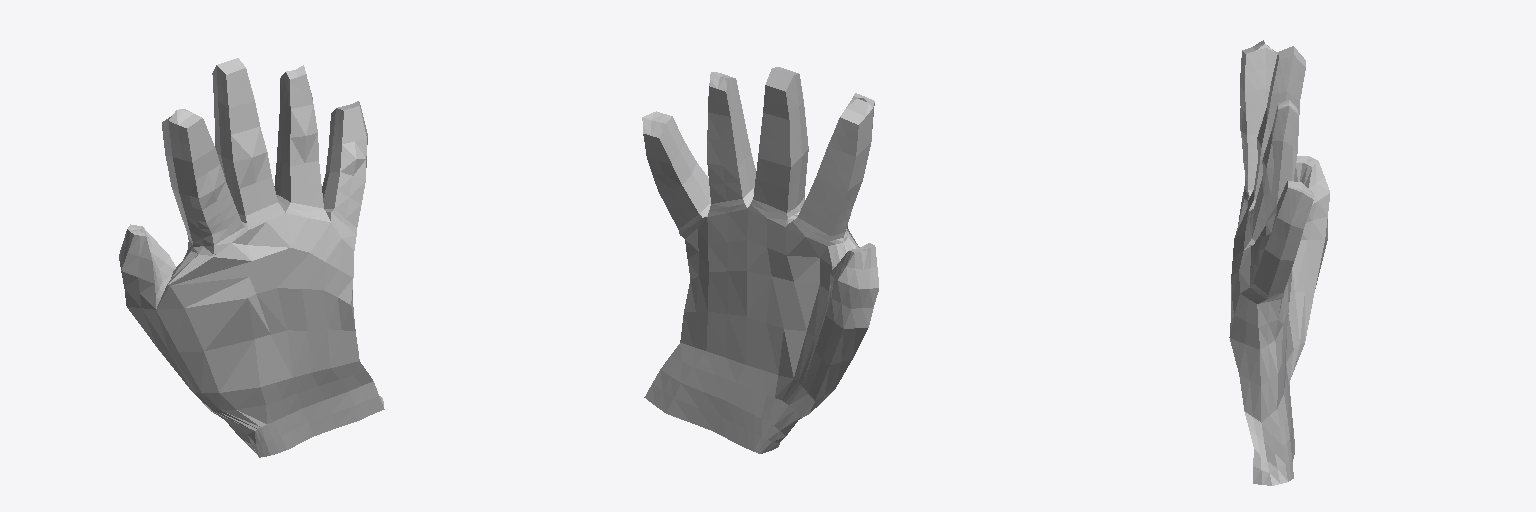
File: flexion0004.obj
The picture shows the model from 3 angles: view 1: azimuth 30°, elevation 25°; view 2: azimuth 150°, elevation 25°; view 3: azimuth 270°, elevation 25°; orthographic projection.
Parts seen in each view (by area): view 1: Hand; view 2: Hand; view 3: Hand.
Boxes of the visible parts, x1=… form: Hand: x1=119, y1=58, x2=384, y2=457; Hand: x1=642, y1=67, x2=878, y2=453; Hand: x1=1229, y1=40, x2=1329, y2=485.
Size of the model in its own units: 3.27 by 4.96 by 1.16.